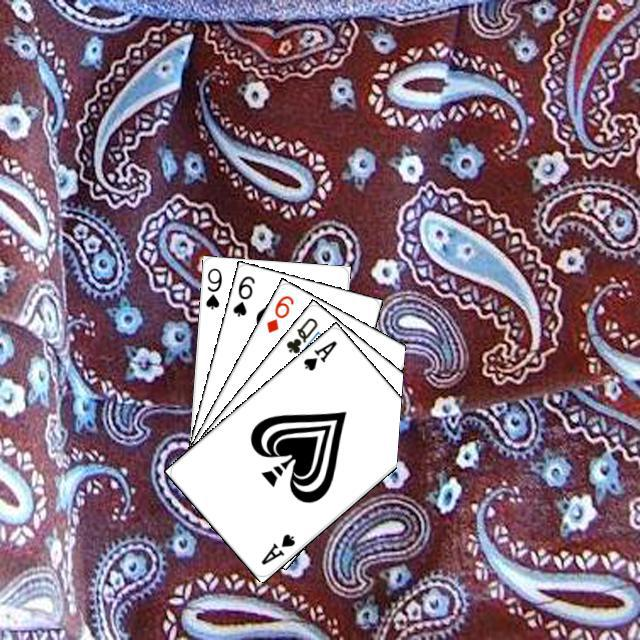6d: (261, 290, 296, 335)
6s: (228, 271, 256, 318)
9s: (201, 263, 224, 311)
As: (298, 335, 339, 373), (256, 529, 297, 567)
Qc: (281, 312, 322, 363)
